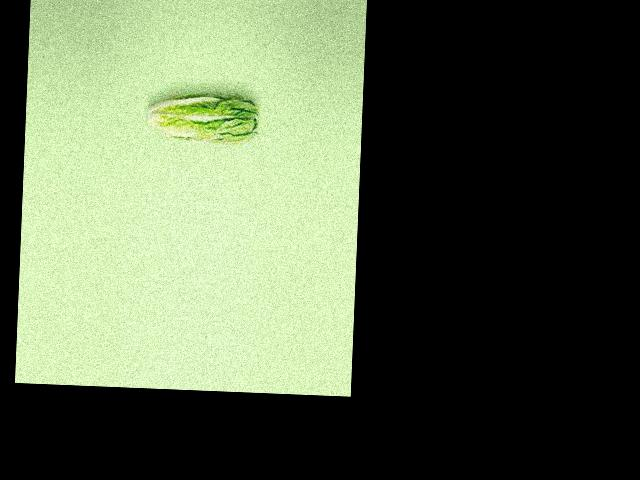lettuce: (128, 62, 267, 154)
